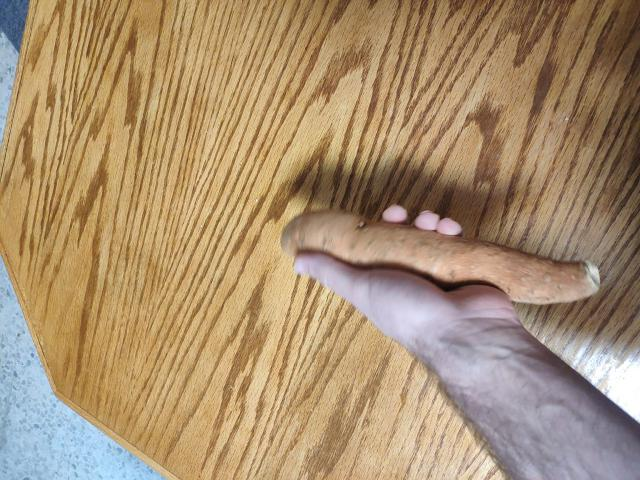sweet_potato: (283, 204, 612, 316)
